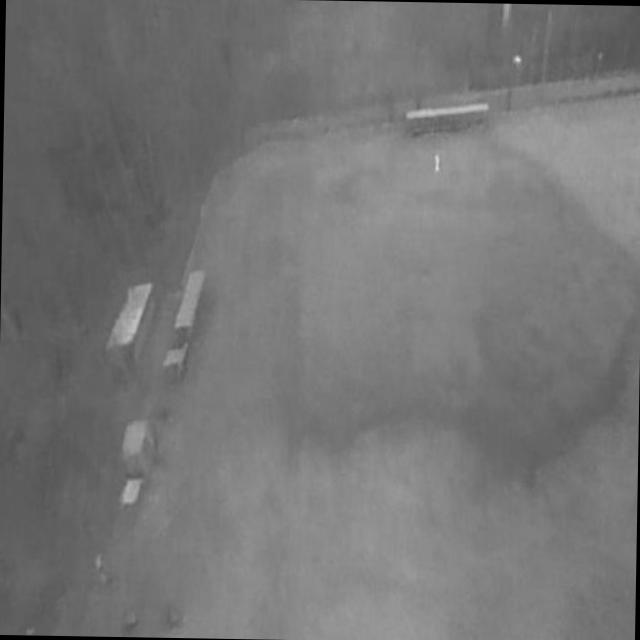person: (433, 154, 442, 175)
